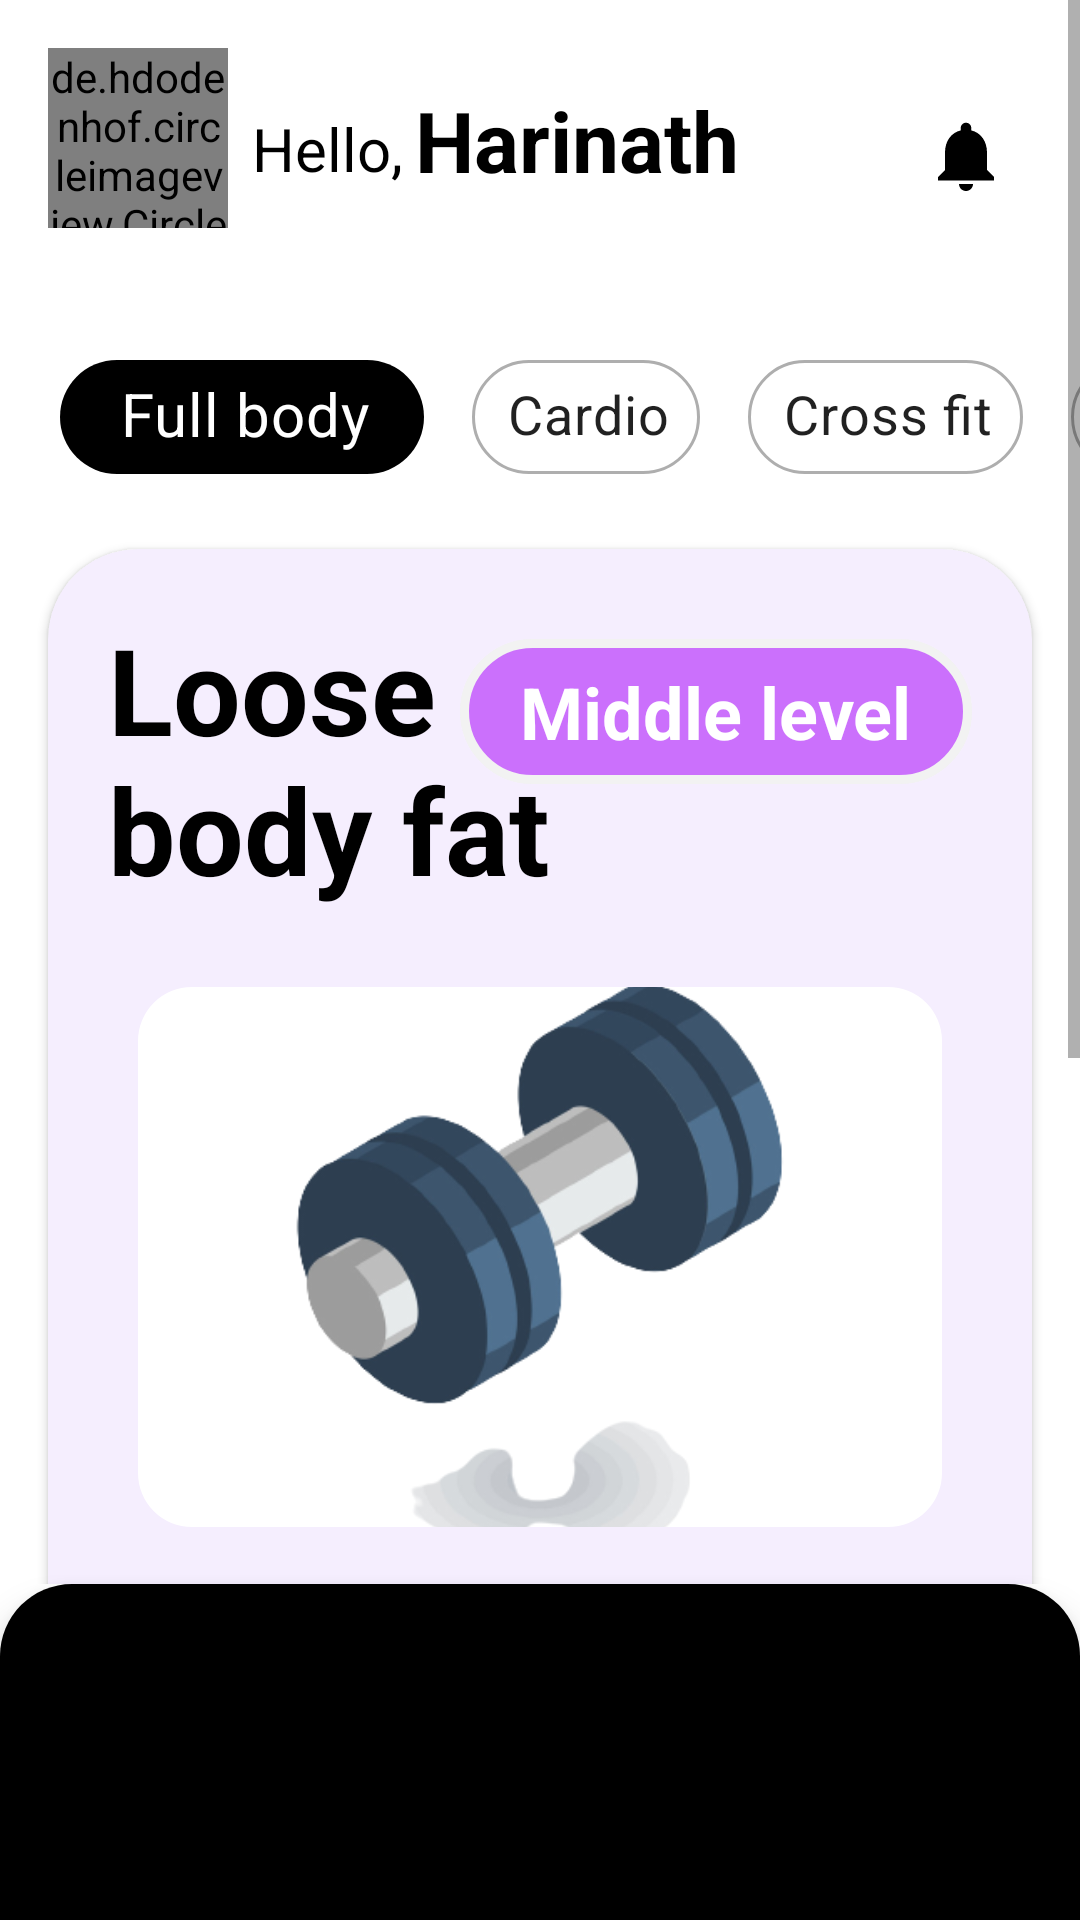

Named icons in this screenshot (1080×1920) and their centers, (x=x, y=y):
notifications: (x=966, y=156)
